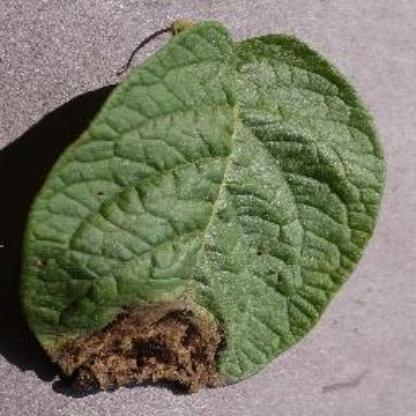Late-Blight: (16, 15, 388, 395)
